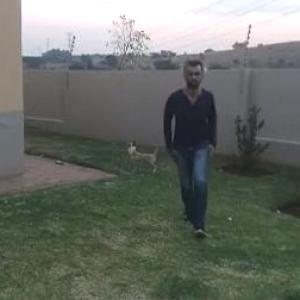follow: (160, 52, 216, 228)
